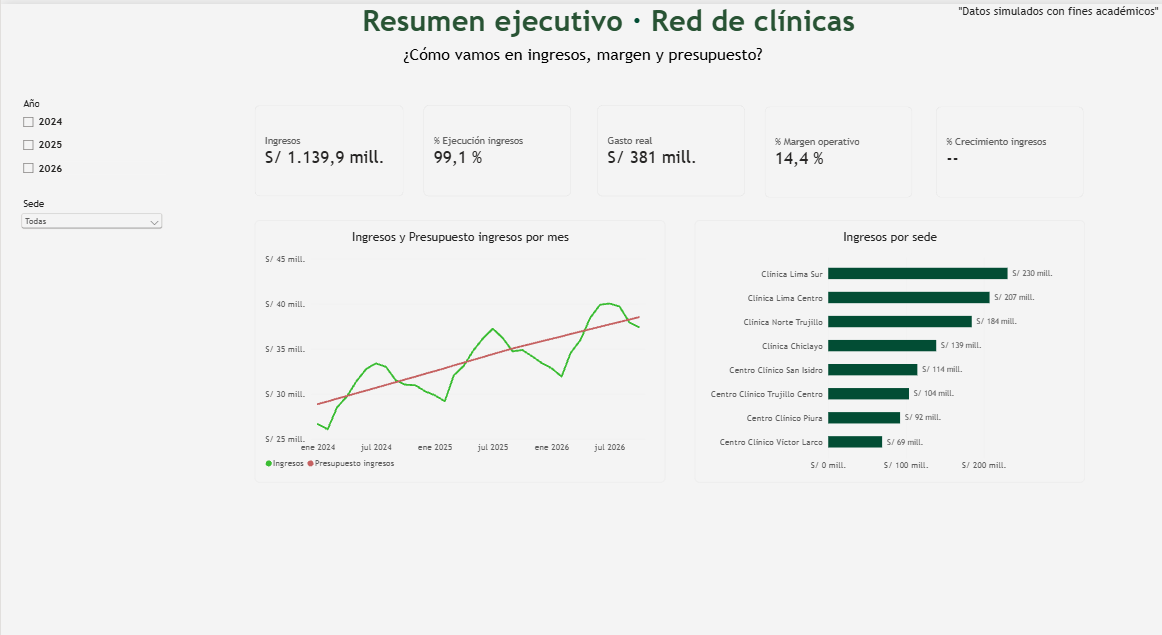

This screenshot's page, from the dashboard's own definition file:
{"tool":"powerbi","page":{"name":"Resumen ejecutivo","canvas":[1920,1080],"ordinal":0},"visuals":[{"type":"textbox","box":[662,68,640,62],"z":0},{"type":"textbox","box":[594,0,832,98],"z":1000},{"type":"textbox","box":[1576,0,344,62],"z":2000},{"type":"slicer","fields":{"Values":["dim_fecha.anio"]},"box":[28,154,242.5,150],"z":3000},{"type":"slicer","fields":{"Values":["dim_sede.sede"]},"box":[28.8,319,242,76],"z":4000},{"type":"cardVisual","fields":{"Data":["Medidas1.% Ejecución ingresos"]},"box":[695,167.5,243,150],"z":6000},{"type":"cardVisual","fields":{"Data":["Medidas1.Ingresos"]},"box":[417.5,167.5,245,150],"z":7000},{"type":"cardVisual","fields":{"Data":["Medidas1.Gasto real"]},"box":[982.5,167.5,243,150],"z":8000},{"type":"cardVisual","fields":{"Data":["Medidas1.% Margen operativo"]},"box":[1258,168,243,150],"z":9000},{"type":"cardVisual","fields":{"Data":["Medidas1.% Crecimiento ingresos"]},"box":[1540,168,243,150],"z":10000},{"type":"lineChart","fields":{"Category":["dim_fecha.mes"],"Y":["Medidas1.Ingresos","Medidas1.Presupuesto ingresos"]},"box":[418,356,676,432],"z":11000},{"type":"barChart","fields":{"Category":["dim_sede.sede"],"Y":["Medidas1.Ingresos"]},"box":[1142,356,642,432],"z":12000}]}

Visuals, with their boxes in screenshot pixels (x1, y1, x2, y2), scaled from the page's 1920x1080 canvas onto the 1162x635 screenshot:
textbox: <bbox>401, 40, 788, 76</bbox>
textbox: <bbox>359, 0, 863, 58</bbox>
textbox: <bbox>954, 0, 1161, 36</bbox>
slicer - dim_fecha.anio: <bbox>17, 91, 164, 179</bbox>
slicer - dim_sede.sede: <bbox>17, 188, 164, 232</bbox>
cardVisual - Medidas1.% Ejecución ingresos: <bbox>421, 98, 568, 187</bbox>
cardVisual - Medidas1.Ingresos: <bbox>253, 98, 401, 187</bbox>
cardVisual - Medidas1.Gasto real: <bbox>595, 98, 742, 187</bbox>
cardVisual - Medidas1.% Margen operativo: <bbox>761, 99, 908, 187</bbox>
cardVisual - Medidas1.% Crecimiento ingresos: <bbox>932, 99, 1079, 187</bbox>
lineChart - dim_fecha.mes x Medidas1.Ingresos: <bbox>253, 209, 662, 463</bbox>
barChart - dim_sede.sede x Medidas1.Ingresos: <bbox>691, 209, 1080, 463</bbox>
